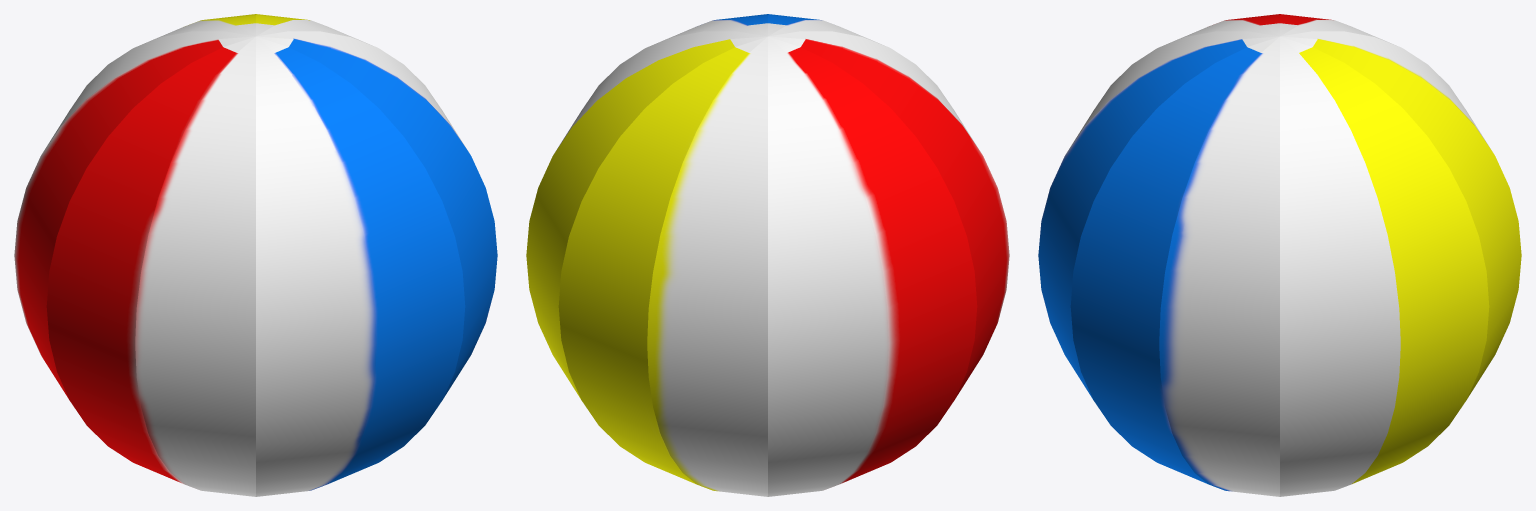
Rendered from beachball.fbx.
The picture shows the model from 3 angles, left to right: view 1: azimuth 30°, elevation 25°; view 2: azimuth 150°, elevation 25°; view 3: azimuth 270°, elevation 25°; orthographic projection.
Visible parts, largest first — view 1: pSphere1; view 2: pSphere1; view 3: pSphere1.
Boxes of the visible parts, x1=… form: pSphere1: x1=14, y1=14, x2=497, y2=496; pSphere1: x1=526, y1=14, x2=1009, y2=496; pSphere1: x1=1038, y1=14, x2=1521, y2=496.
Bounding box in the file's own units: 2 × 2 × 2.
Materials: 1 (1 with a texture image).
